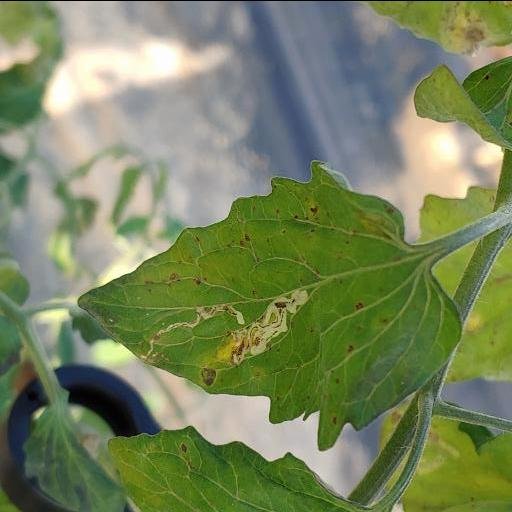Leaf Miner: (76, 157, 464, 452)
